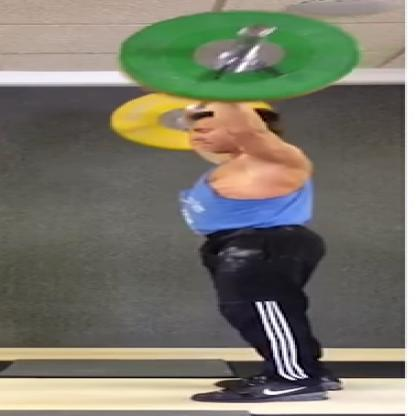Barbell: (236, 23, 284, 38)
